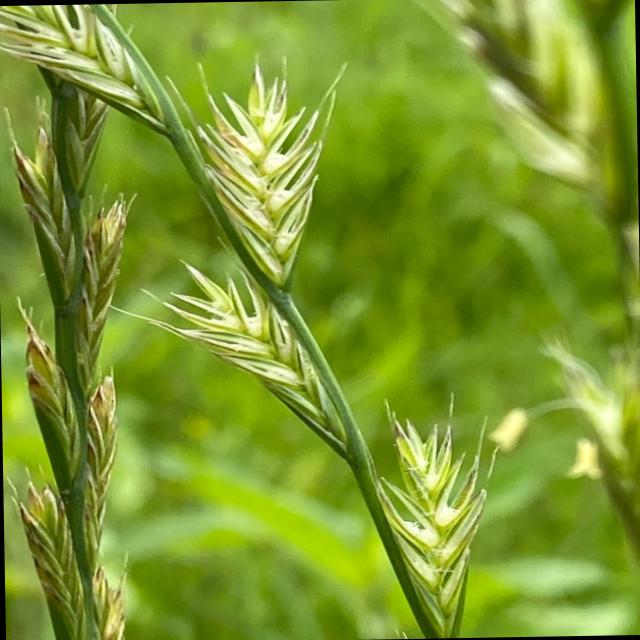Lolium: (24, 0, 499, 640), (3, 14, 142, 640)
